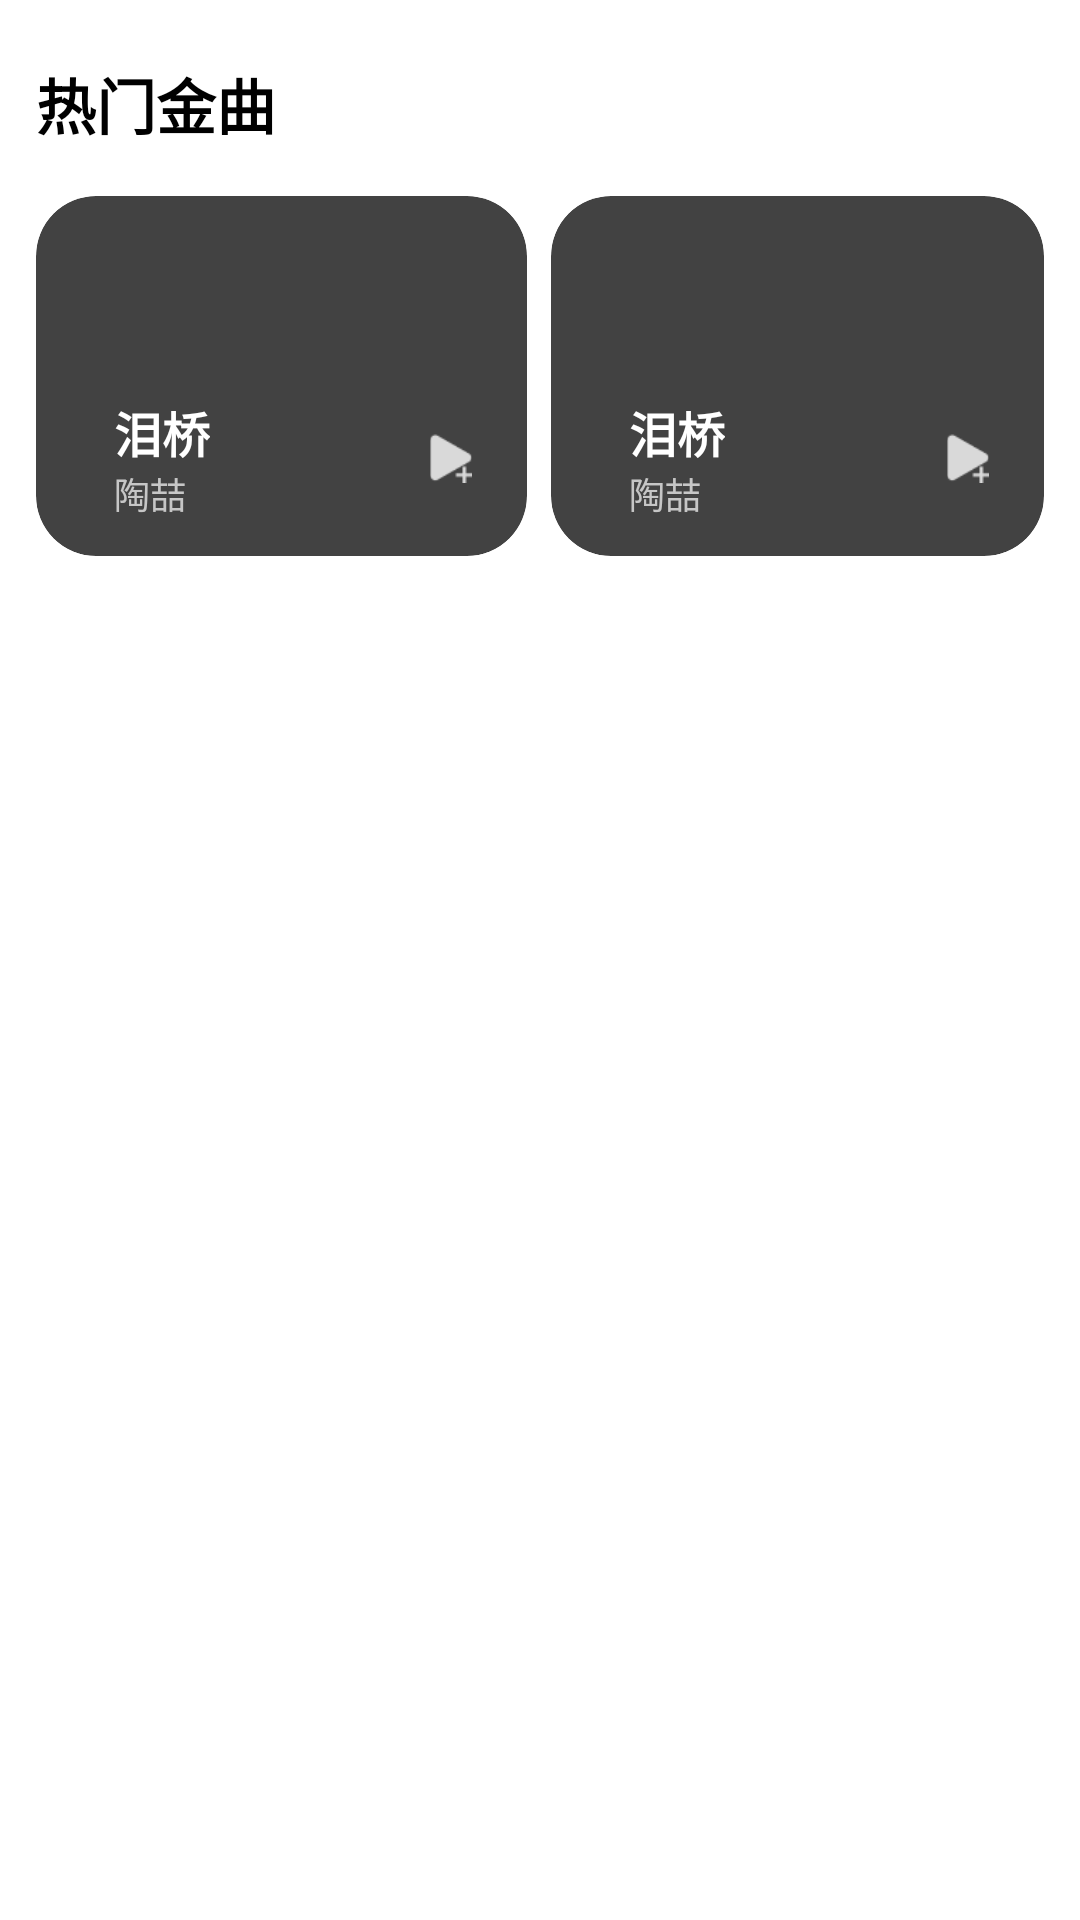

Icon bounding boxes for this 1080*1920 phone screenshot, format (x1, y1, x2, y2):
add music: (430, 434, 472, 483), (947, 434, 989, 483)
